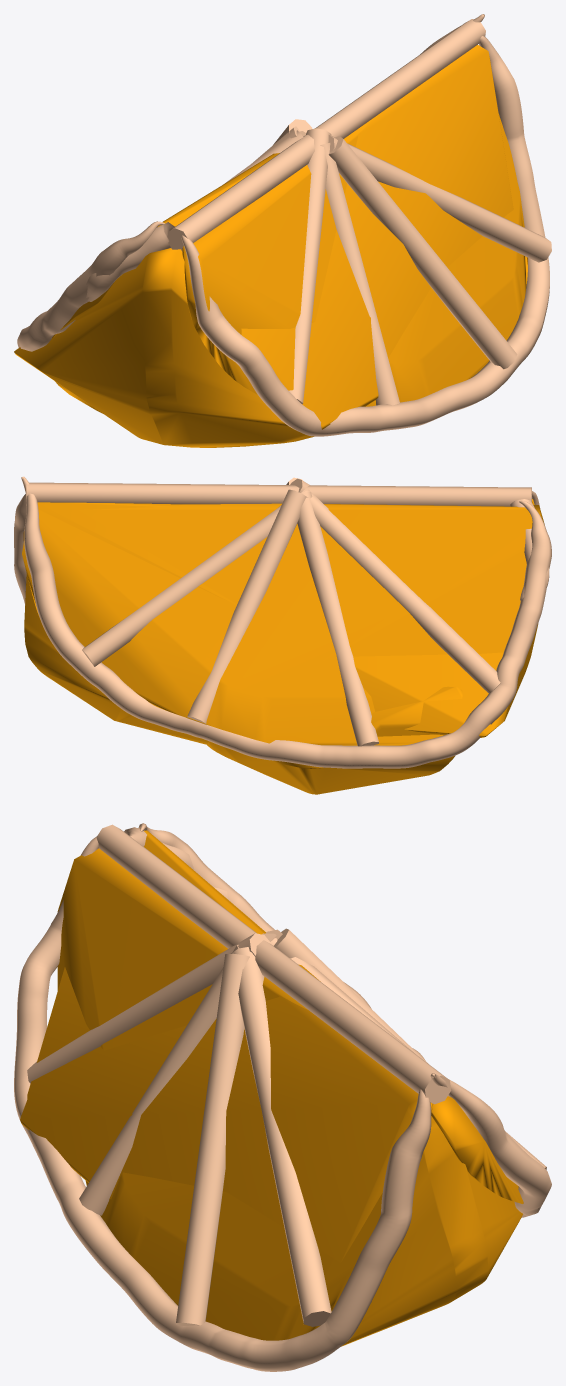
The model's file is orange_slice.glb.
The picture shows the model from 3 angles, top to bottom: view 1: azimuth 30°, elevation 25°; view 2: azimuth 150°, elevation 25°; view 3: azimuth 270°, elevation 25°; orthographic projection. The views are drawn at different scales.
Parts seen in each view (by area): view 1: position_2, RGBA(1.000, 0.373, 0.000, 1.000):WireAxr (Instance) (Instanc; view 2: RGBA(1.000, 0.373, 0.000, 1.000):WireAxr (Instance) (Instanc, position_2; view 3: position_2, RGBA(1.000, 0.373, 0.000, 1.000):WireAxr (Instance) (Instanc.
Part boxes in pixels (x1,y1,x2,y2): position_2: (14,14,551,447); RGBA(1.000, 0.373, 0.000, 1.000):WireAxr (Instance) (Instanc: (52,153,279,337); RGBA(1.000, 0.373, 0.000, 1.000):WireAxr (Instance) (Instanc: (22,503,532,745); position_2: (14,476,551,794); position_2: (14,823,551,1371); RGBA(1.000, 0.373, 0.000, 1.000):WireAxr (Instance) (Instanc: (144,830,523,1203).
Size of the model in its own units: 0.2332 by 0.1345 by 0.1725.
